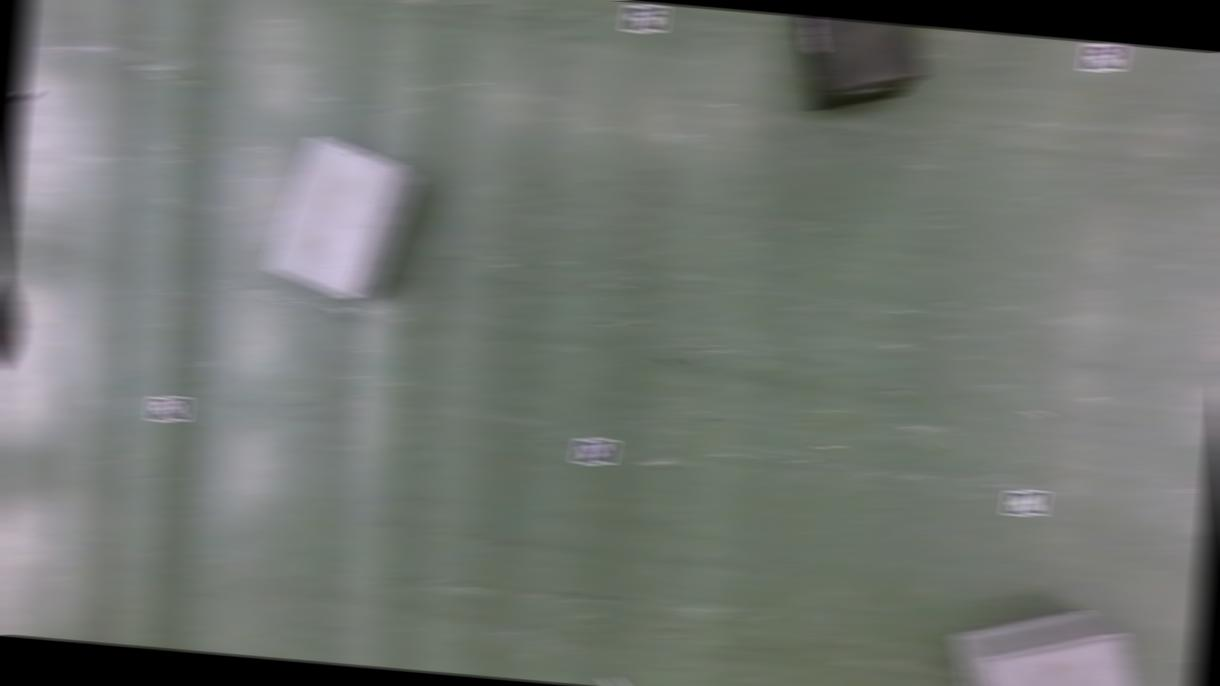probes: (14, 88, 40, 118), (601, 673, 643, 686)
rako: (257, 127, 422, 304), (941, 599, 1154, 686), (781, 14, 933, 118)
